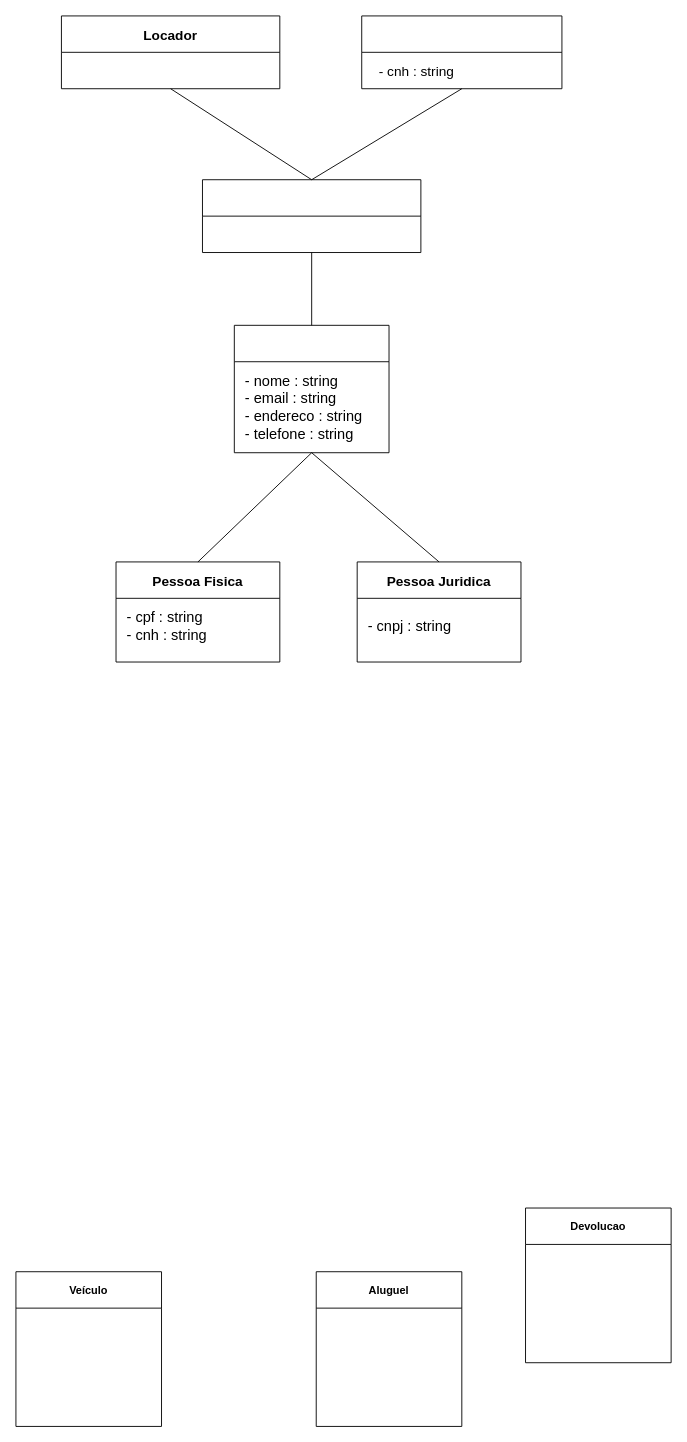
This 687x1442 diagram has some shape labels left out. The shapes that lost their labels are listed below. From the top down, each one's box as (x1, y1, x2, y2) in pixels, then its label:
(361, 15, 562, 89): Locatário
(202, 179, 421, 253): Papel
(233, 324, 389, 453): Cliente
